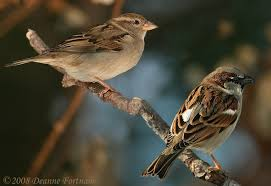hsparrow: (6, 10, 162, 92), (146, 62, 255, 178)
